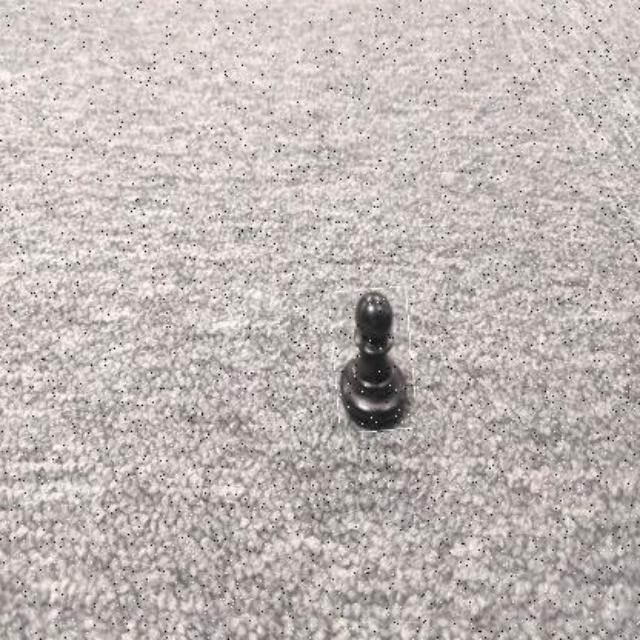black-pawn: (331, 289, 414, 433)
